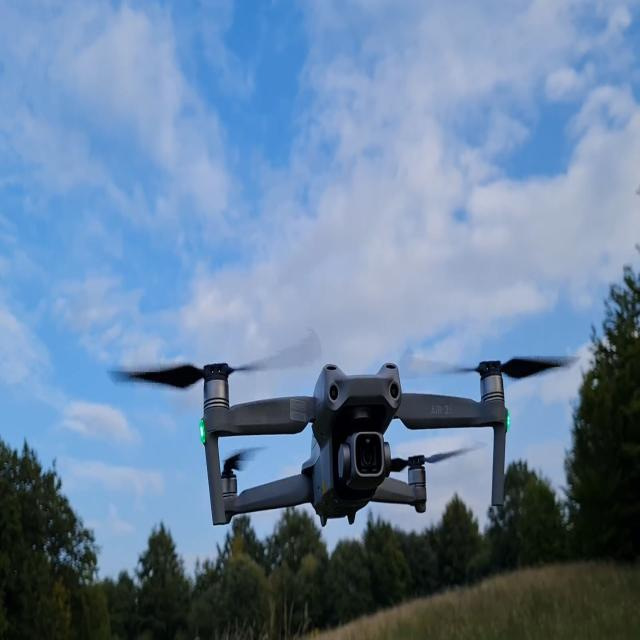drone: (106, 329, 581, 528)
